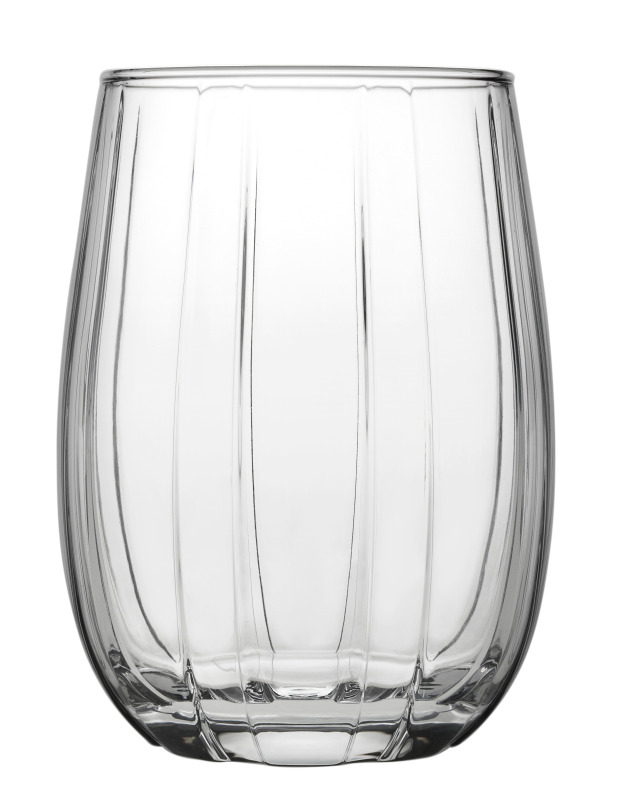glass of water: (53, 45, 564, 769)
